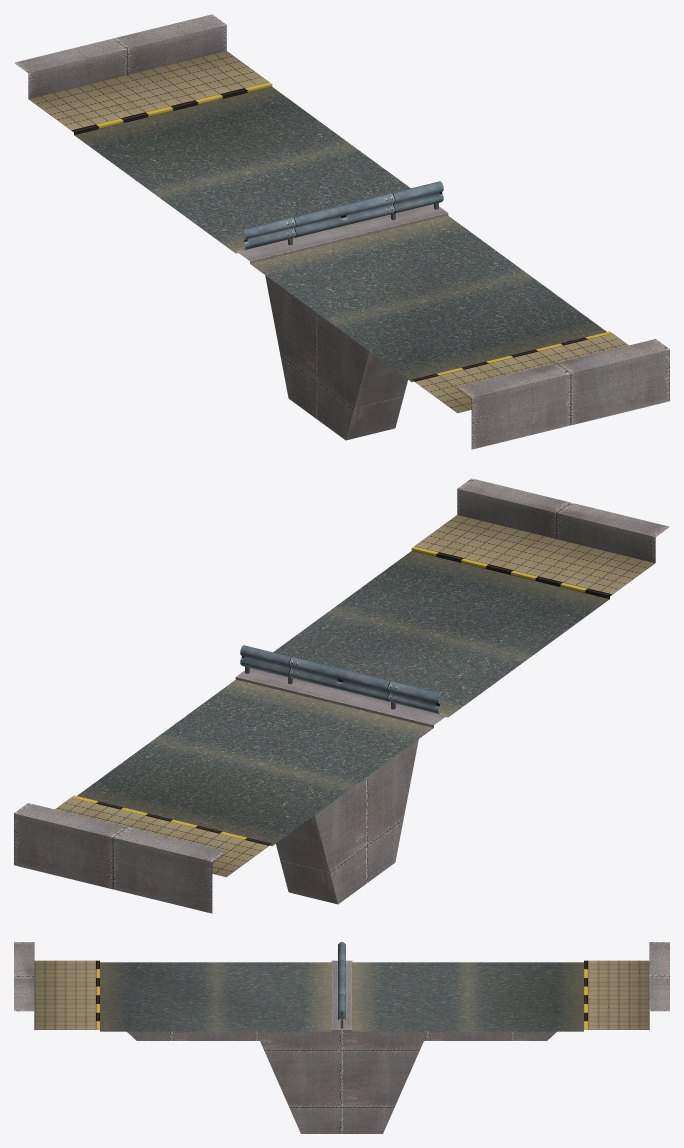
File: M2_Zone4_FlyOver2.glb
3 renders of one model, top to bottom at view 1: azimuth 30°, elevation 25°; view 2: azimuth 150°, elevation 25°; view 3: azimuth 270°, elevation 25°, orthographic. The views are drawn at different scales.
Visible parts, largest first — view 1: M2_ZONE4_FLYOVER2; view 2: M2_ZONE4_FLYOVER2; view 3: M2_ZONE4_FLYOVER2.
Boxes of the visible parts, bbox=[...] form: M2_ZONE4_FLYOVER2: bbox=[14, 14, 669, 449]; M2_ZONE4_FLYOVER2: bbox=[14, 478, 669, 913]; M2_ZONE4_FLYOVER2: bbox=[14, 942, 669, 1133].
Bounding box in the file's own units: 8 × 8 × 32.
Materials: 6 (6 with a texture image).
